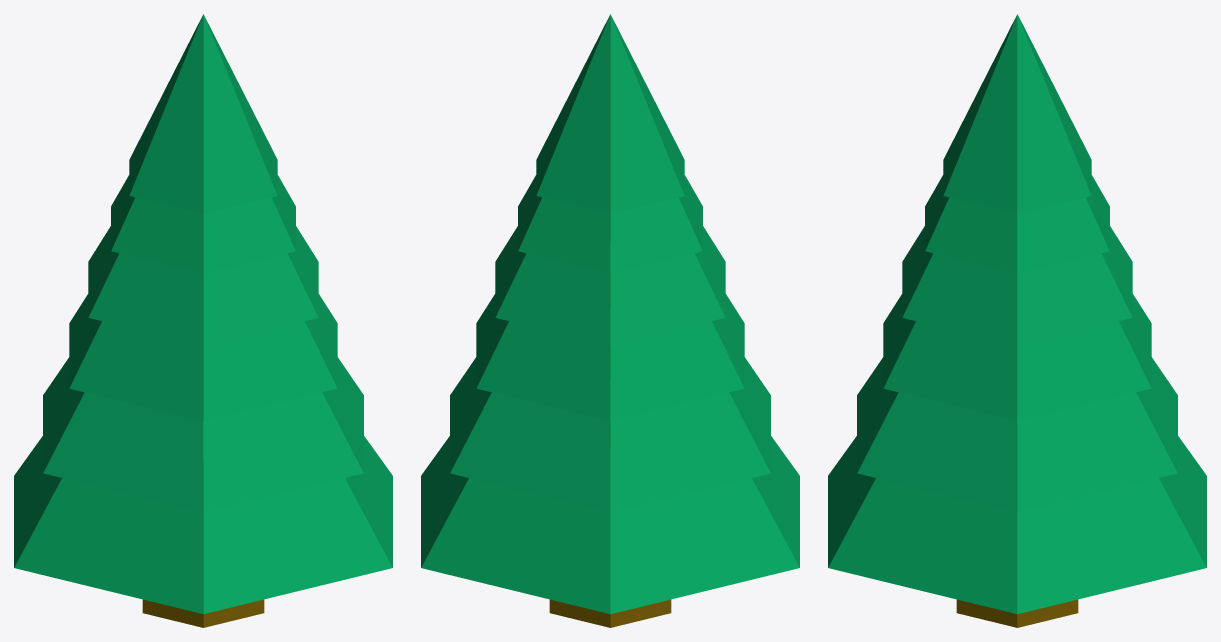
Rendered from treePointy01.fbx.
3 renders of one model, left to right at view 1: azimuth 30°, elevation 25°; view 2: azimuth 150°, elevation 25°; view 3: azimuth 270°, elevation 25°, orthographic.
Visible parts, largest first — view 1: pCylinder8; view 2: pCylinder8; view 3: pCylinder8.
Part boxes in pixels (left/top/right/bottom): pCylinder8: left=14, top=14, right=392, bottom=627; pCylinder8: left=421, top=14, right=799, bottom=627; pCylinder8: left=828, top=14, right=1206, bottom=627.
Bounding box in the file's own units: 6.05 × 8.92 × 5.24.
